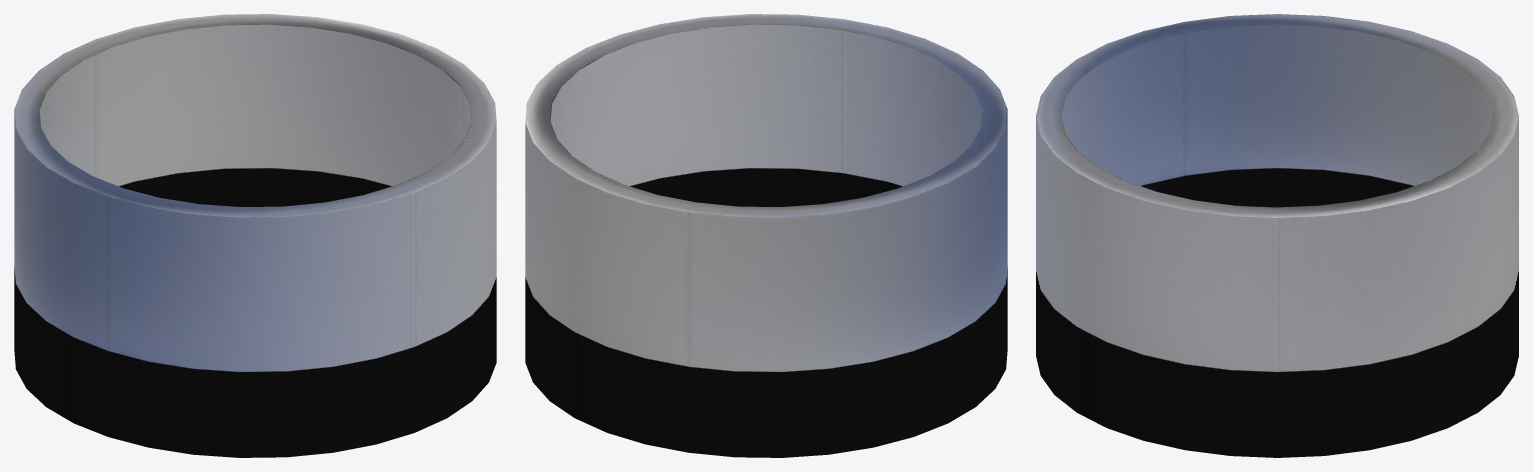
File: Web_GK_Arm_Alas.glb
The picture shows the model from 3 angles, left to right: view 1: azimuth 30°, elevation 25°; view 2: azimuth 150°, elevation 25°; view 3: azimuth 270°, elevation 25°; orthographic projection.
Parts seen in each view (by area): view 1: Cylinder.001; view 2: Cylinder.001; view 3: Cylinder.001.
Boxes of the visible parts, x1,y1,x2,y2 form: Cylinder.001: (14,14,496,457); Cylinder.001: (525,14,1007,457); Cylinder.001: (1036,14,1518,457).
Size of the model in its own units: 0.8103 by 0.4441 by 0.8103.
Materials: 1 (1 with a texture image).
